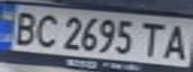2: (57, 12, 84, 52)
5: (115, 17, 139, 56)
6: (78, 15, 100, 53)
9: (96, 16, 121, 54)
A: (157, 20, 193, 61)
B: (6, 8, 42, 46)
C: (30, 11, 63, 48)
T: (136, 19, 169, 57)
